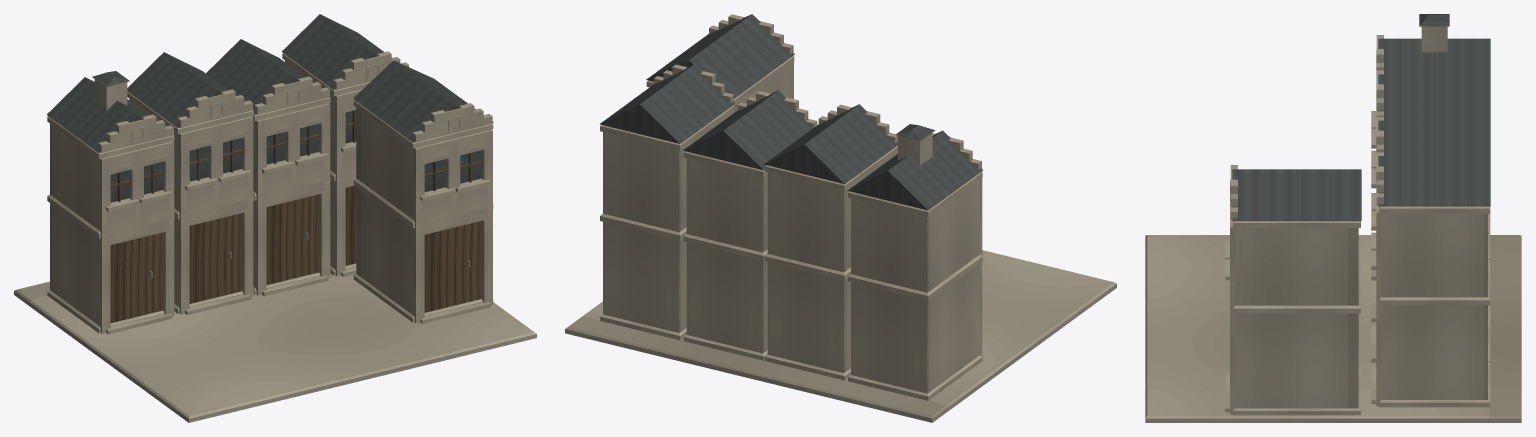
File: brussels.glb
3 renders of one model, left to right at view 1: azimuth 30°, elevation 25°; view 2: azimuth 150°, elevation 25°; view 3: azimuth 270°, elevation 25°, orthographic. The views are drawn at different scales.
Visible parts, largest first — view 1: brussels; view 2: brussels; view 3: brussels.
Part boxes in pixels (x1,y1,x2,y2): brussels: (14, 14, 536, 422); brussels: (565, 14, 1116, 422); brussels: (1145, 14, 1521, 422).
Bounding box in the file's own units: 7.7 × 5 × 6.7.
Materials: 1 (1 with a texture image).
